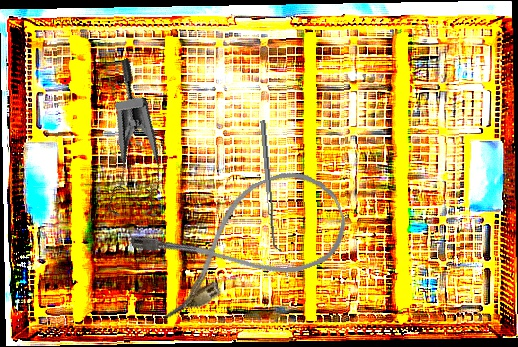Cannula: (127, 157, 357, 325)
Spatula Surgical: (260, 119, 282, 253)
Speculum: (58, 57, 188, 231)
